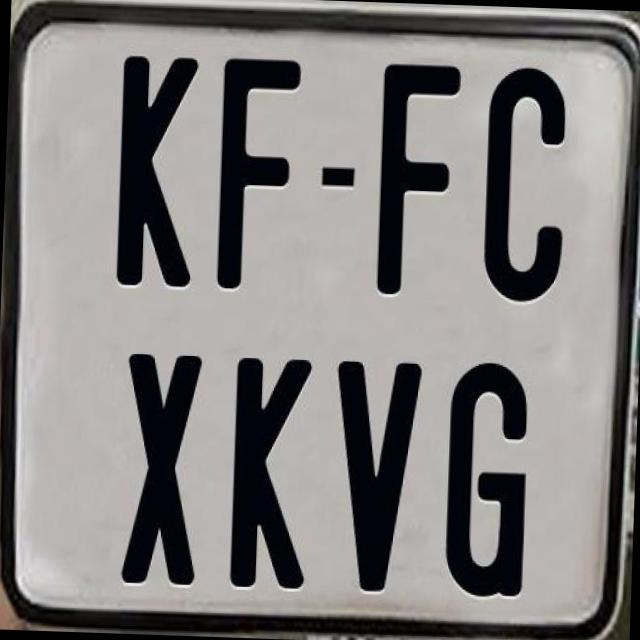C: (481, 65, 567, 311)
F: (373, 58, 465, 301), (212, 57, 304, 290)
G: (441, 358, 527, 601)
K: (228, 357, 314, 595), (114, 55, 198, 290)
V: (327, 356, 422, 594)
X: (120, 352, 202, 589)
